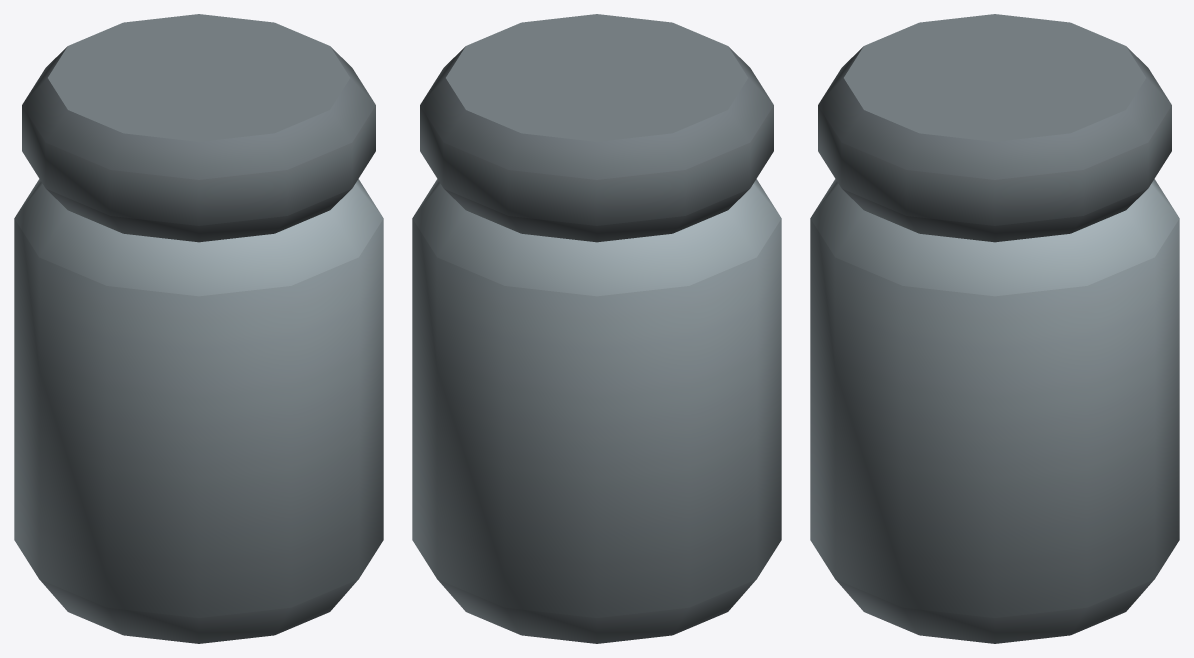
File: kay-jar_b_large.glb
The picture shows the model from 3 angles, left to right: view 1: azimuth 30°, elevation 25°; view 2: azimuth 150°, elevation 25°; view 3: azimuth 270°, elevation 25°; orthographic projection.
Visible parts, largest first — view 1: jar_B_large; view 2: jar_B_large; view 3: jar_B_large.
Part boxes in pixels (box(x1,y1,x2,y2)): jar_B_large: box(14, 14, 383, 643); jar_B_large: box(412, 14, 781, 643); jar_B_large: box(810, 14, 1179, 643).
Size of the model in its own units: 0.1467 by 0.22 by 0.1467.
1 material, 1 textured.
